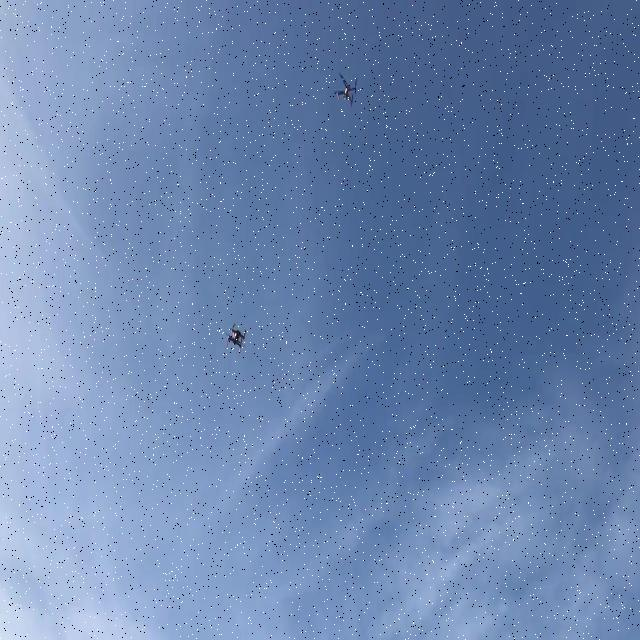UAV: (333, 72, 357, 108), (226, 324, 247, 354)
